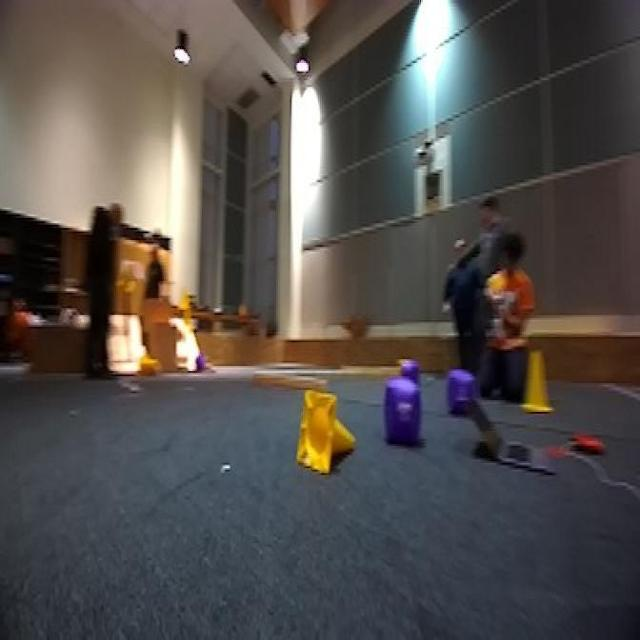frc_cone: (297, 392, 359, 476), (521, 348, 555, 416), (136, 352, 156, 380)
frc_cube: (383, 374, 422, 444), (445, 366, 477, 412), (398, 356, 419, 380), (192, 354, 208, 373)
